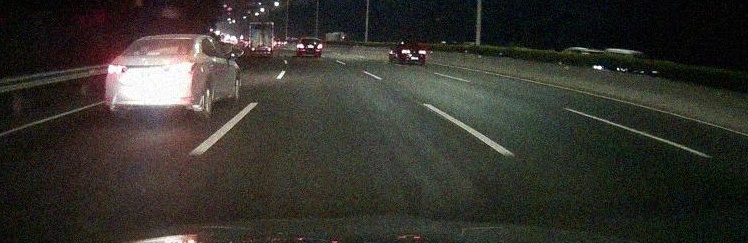L_light: (107, 64, 126, 74), (298, 44, 304, 48), (251, 48, 255, 51)
R_light: (170, 62, 195, 72), (317, 44, 322, 48), (268, 48, 271, 51)
T_light: (146, 52, 161, 55), (259, 24, 262, 25), (308, 39, 311, 40)
night-no: (104, 34, 201, 121), (249, 21, 273, 59), (297, 37, 322, 58)
